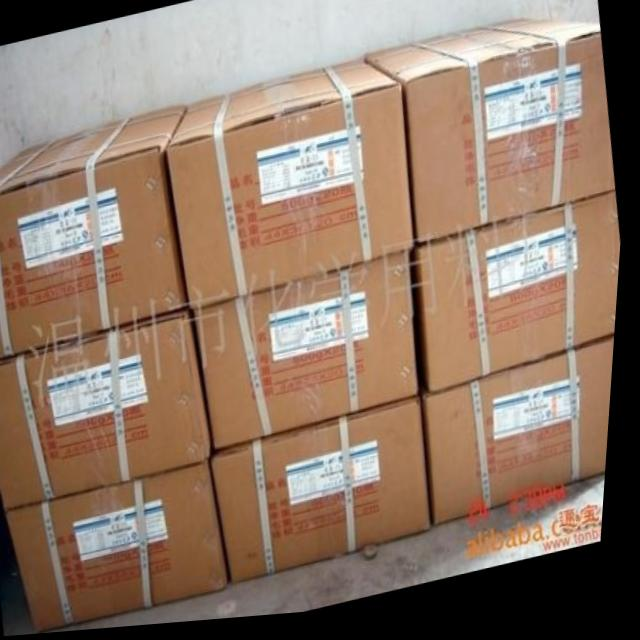box: (169, 65, 418, 313), (366, 25, 619, 251), (0, 107, 193, 361), (199, 257, 427, 455), (0, 309, 220, 511), (414, 202, 624, 402), (219, 403, 440, 589), (13, 463, 238, 634), (425, 346, 620, 533)
